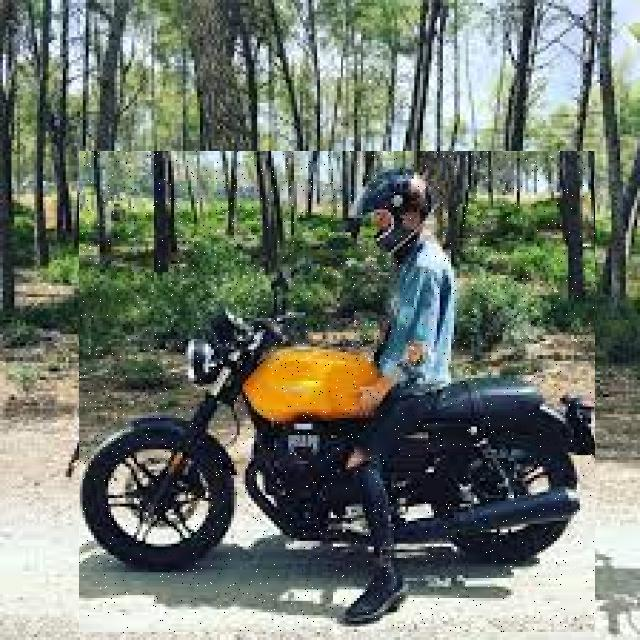With Helmet: (79, 152, 595, 634)
